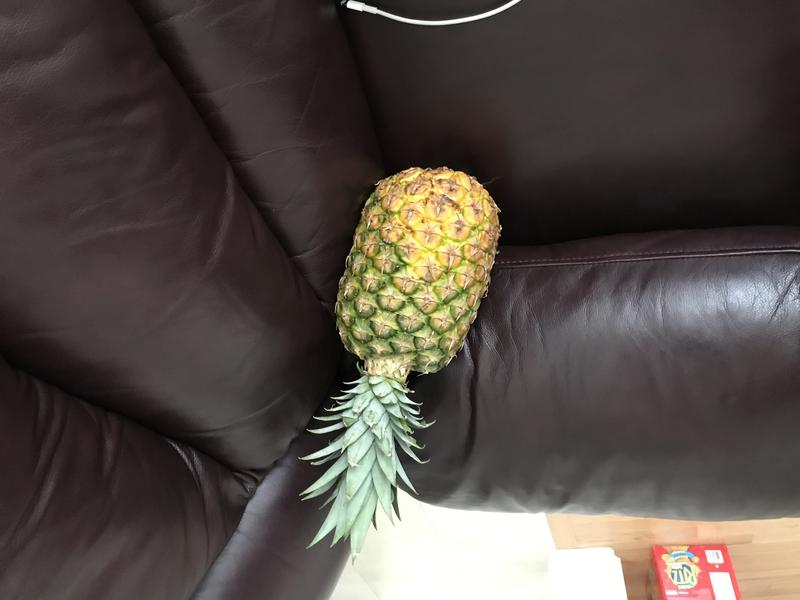pineapple: (306, 149, 510, 555)
